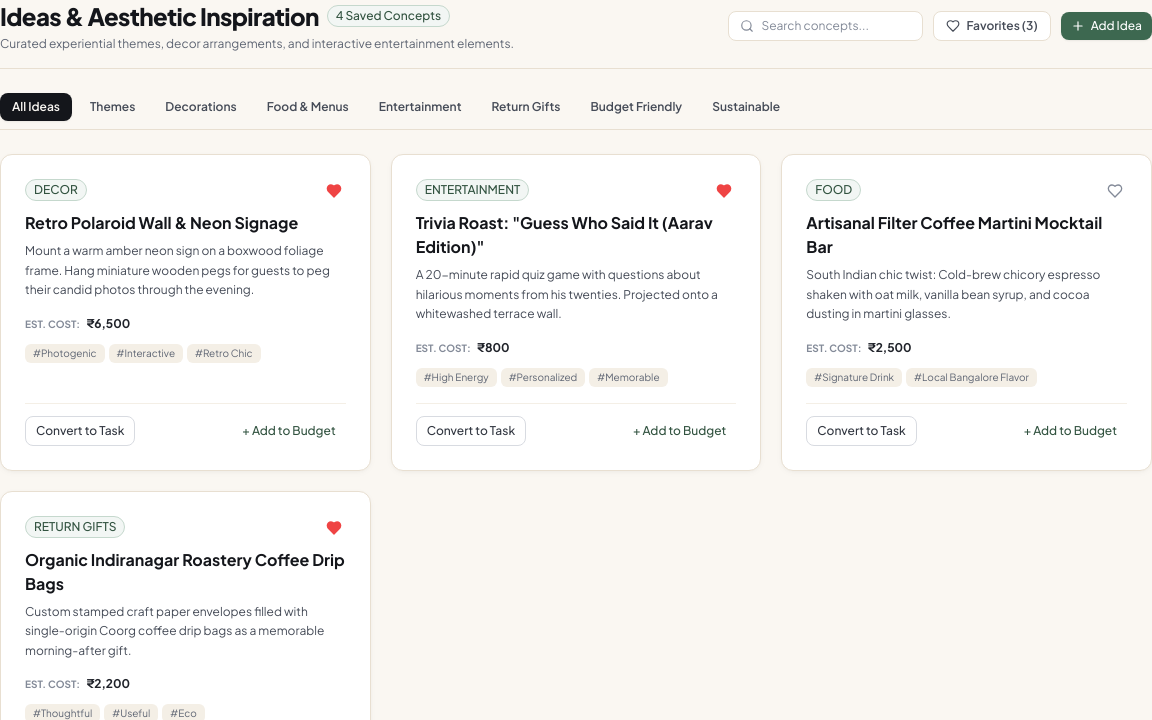
Test: IdeasPage Feature Tests › opens Add Creative Concept modal and creates a custom idea
Click the button "Add Idea" at (1106, 26), box [1061, 12, 1151, 40]
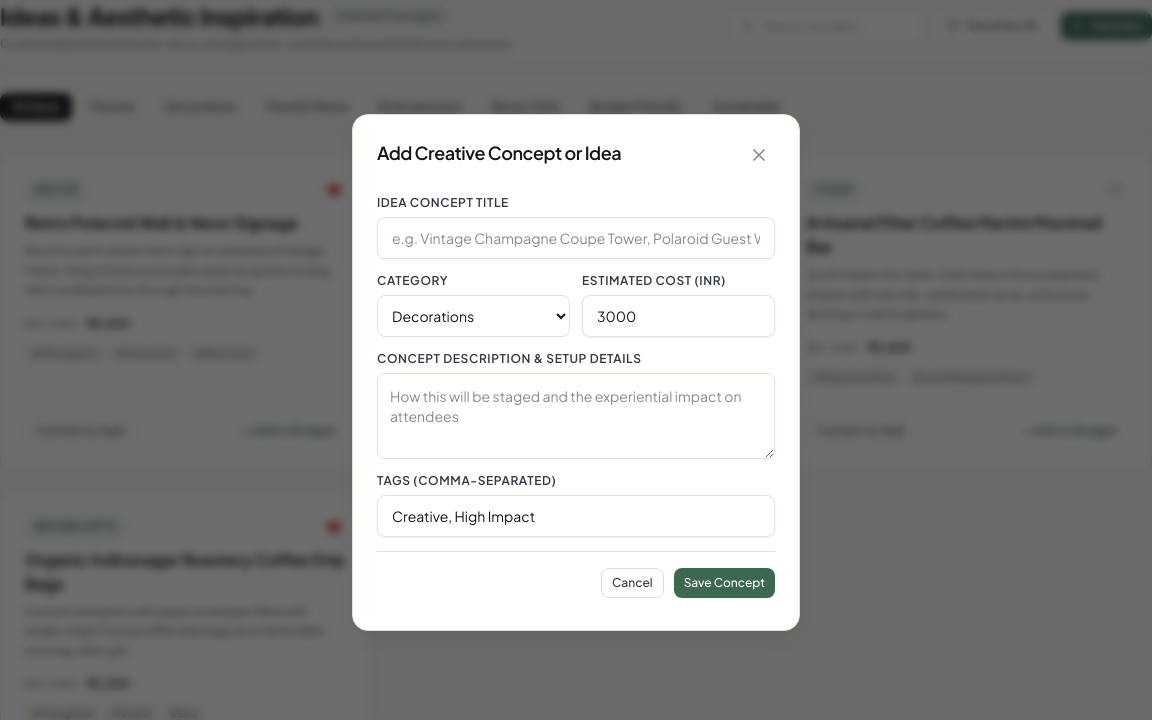
Expected: the dialog "Add Creative Concept or Idea" is shown, [352, 114, 800, 630]
Type "Floating Lantern Canopy" into the field labelled "Idea Concept Title" at (576, 238), box [377, 216, 775, 258]
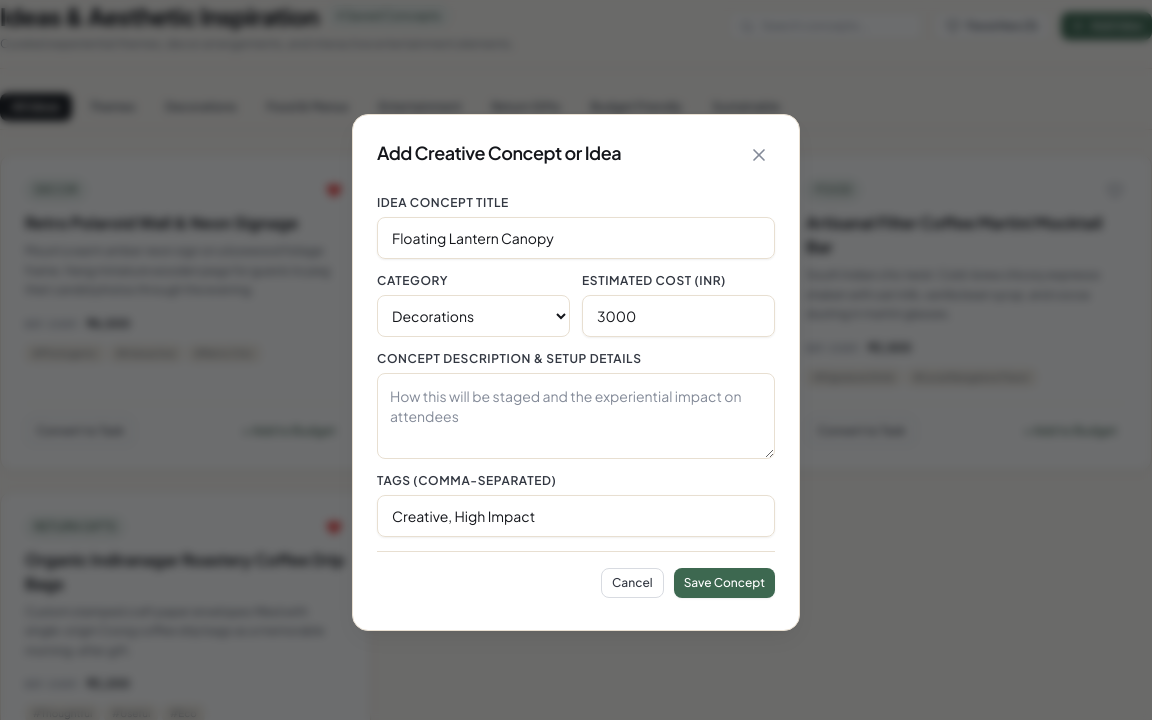
Replace the text in the text box labelled "Concept Description & Setup Details" with "Warm glowing LED lanterns suspended over cocktail tables" at (576, 416), box [377, 372, 775, 458]
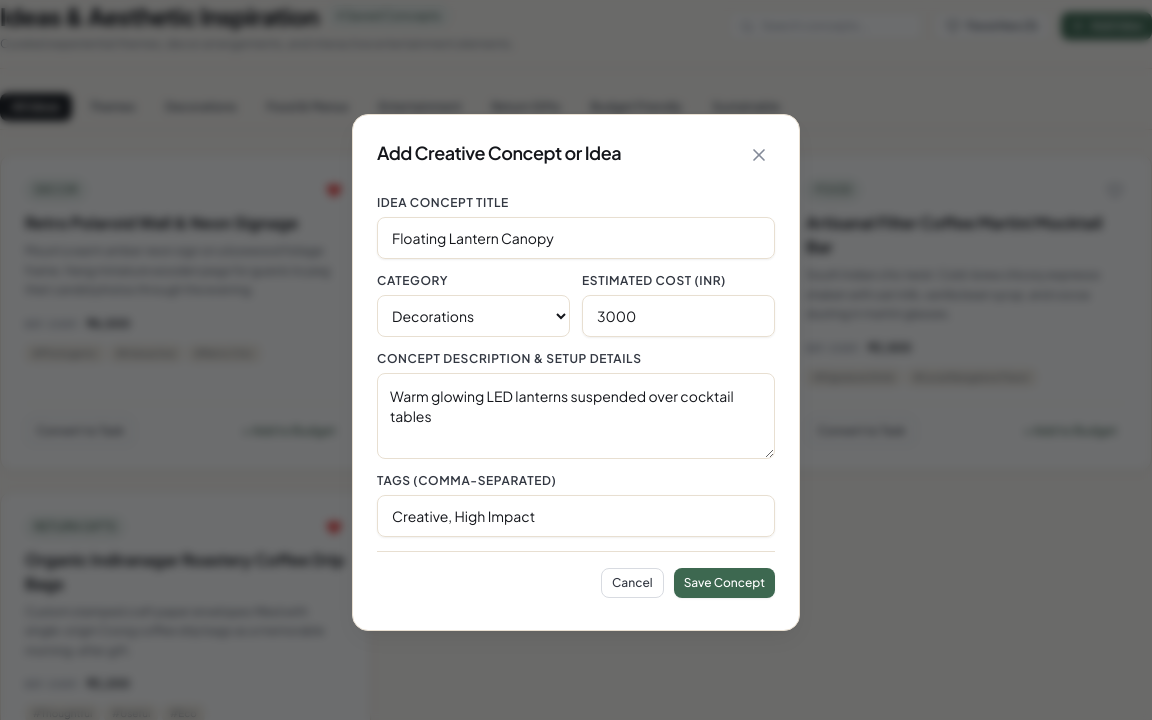
Click the button "Save Concept" at (724, 582), box [674, 568, 775, 598]
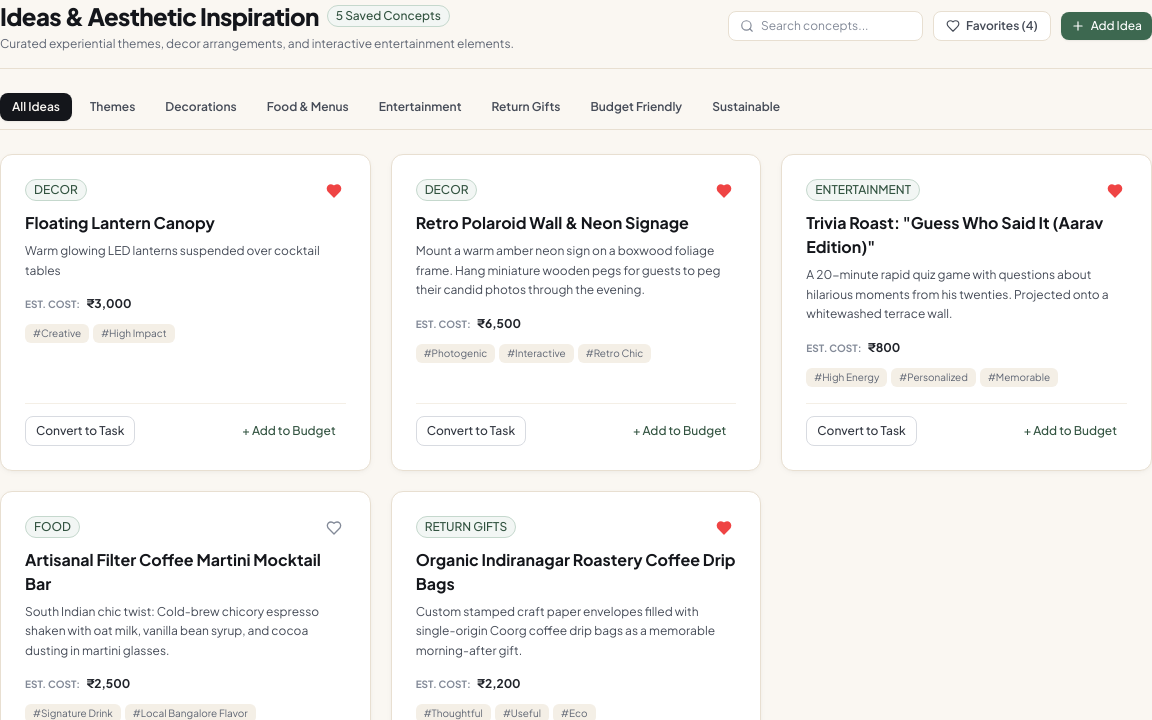
Expected: the heading "Add Creative Concept or Idea" is gone
Expected: the heading "Floating Lantern Canopy" is shown, [25, 212, 215, 233]
